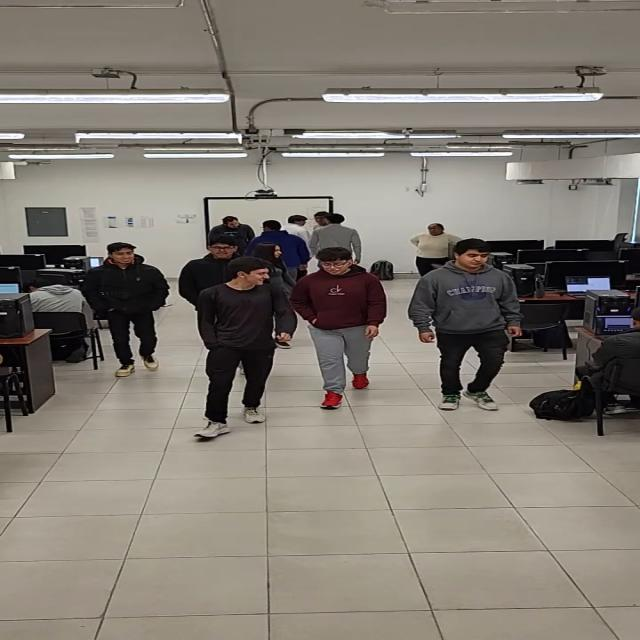Persona: (186, 258, 286, 439), (415, 240, 518, 410), (298, 247, 382, 413), (86, 234, 166, 384), (409, 215, 456, 267), (248, 217, 307, 255), (313, 213, 363, 249)
